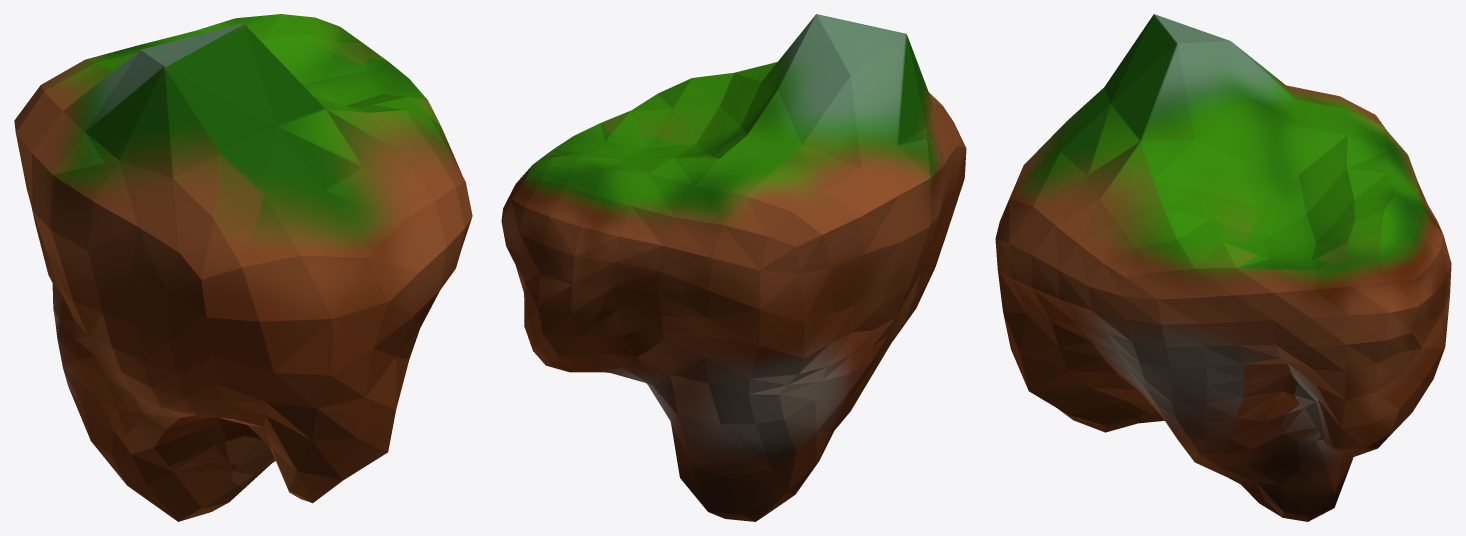
Rendered from island1.gltf.
3 views of the same model, side by side, from view 1: azimuth 30°, elevation 25°; view 2: azimuth 150°, elevation 25°; view 3: azimuth 270°, elevation 25° (orthographic). The views are drawn at different scales.
Parts seen in each view (by area): view 1: Cube; view 2: Cube; view 3: Cube.
Part boxes in pixels (x1,y1,x2,y2): Cube: [14, 14, 472, 521]; Cube: [501, 14, 966, 521]; Cube: [995, 14, 1451, 521].
Bounding box in the file's own units: 4.58 × 5.86 × 5.2.
Materials: 1 (1 with a texture image).
